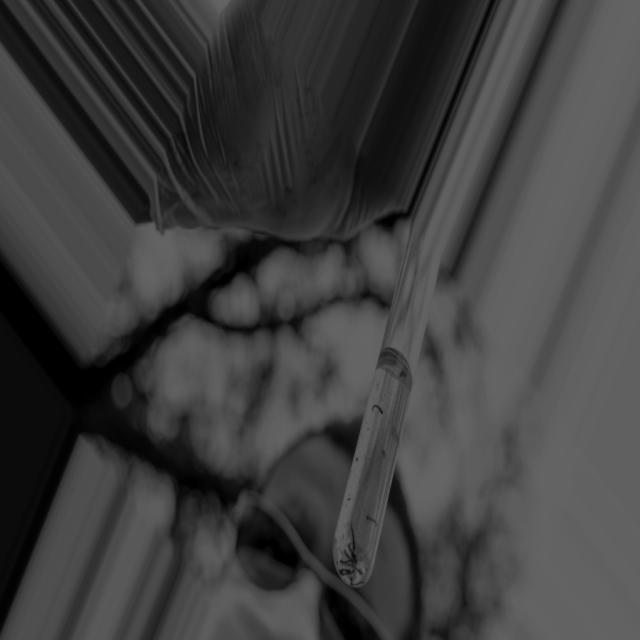larvas: (347, 542, 358, 562), (344, 549, 354, 564), (353, 564, 363, 577), (351, 523, 355, 549), (372, 405, 383, 414), (367, 515, 377, 524), (340, 558, 351, 564), (351, 583, 365, 587), (342, 572, 355, 576), (339, 569, 351, 573)
